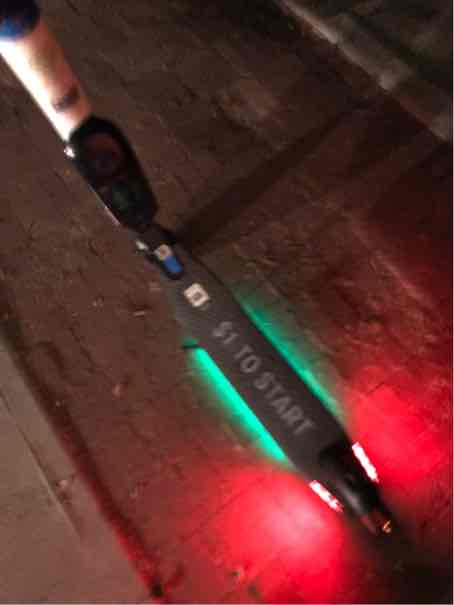scooter: (0, 0, 404, 546)
